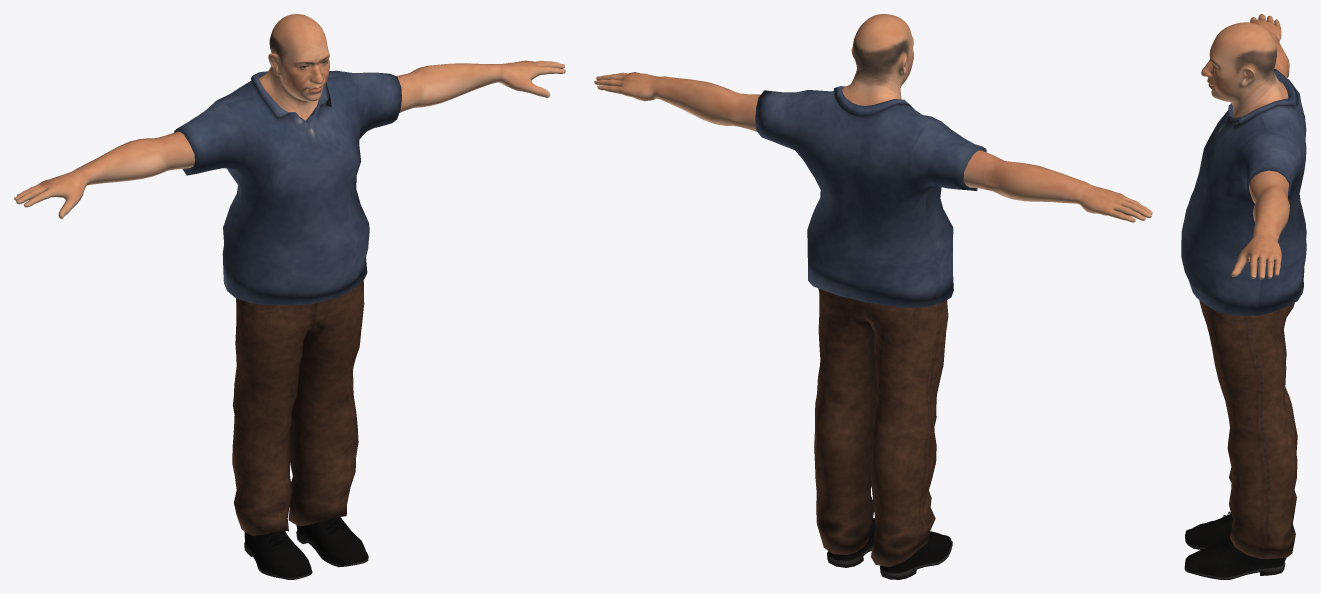
Rendered from VictomM.obj.
3 renders of one model, left to right at view 1: azimuth 30°, elevation 25°; view 2: azimuth 150°, elevation 25°; view 3: azimuth 270°, elevation 25°, orthographic.
Parts seen in each view (by area): view 1: Tops, Bottoms, Body, Shoes; view 2: Tops, Bottoms, Body, Shoes; view 3: Tops, Bottoms, Body, Shoes.
Part boxes in pixels (x1,y1,x2,y2): Tops: [174, 70, 401, 304]; Bottoms: [232, 281, 364, 535]; Body: [14, 14, 565, 218]; Shoes: [244, 517, 368, 579]; Tops: [755, 86, 986, 307]; Bottoms: [814, 288, 948, 567]; Body: [594, 14, 1152, 222]; Shoes: [827, 518, 952, 579]; Tops: [1181, 69, 1306, 315]; Bottoms: [1199, 300, 1297, 558]; Body: [1201, 14, 1289, 279]; Shoes: [1184, 511, 1285, 579].
Size of the model in its own units: 1.94 by 1.81 by 0.3869.
Materials: 1 (1 with a texture image).
